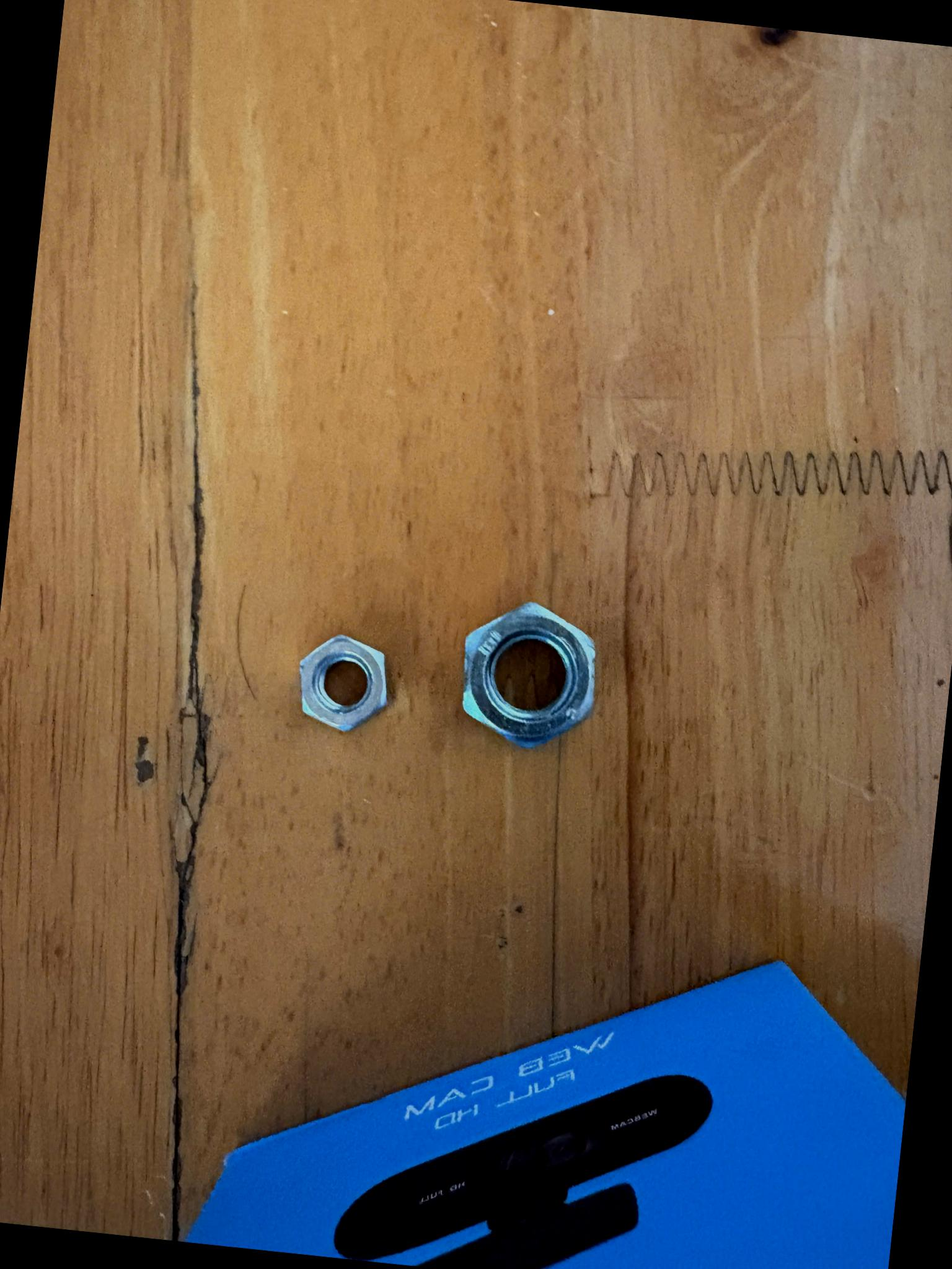nut: (427, 572, 632, 783), (272, 625, 403, 748)
